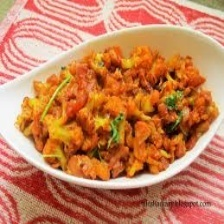sabzi: (9, 34, 223, 186)
